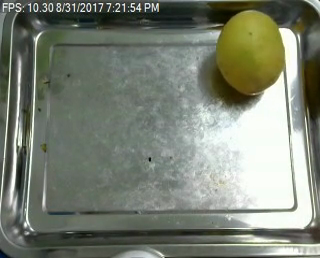Mango: (214, 10, 285, 96)
